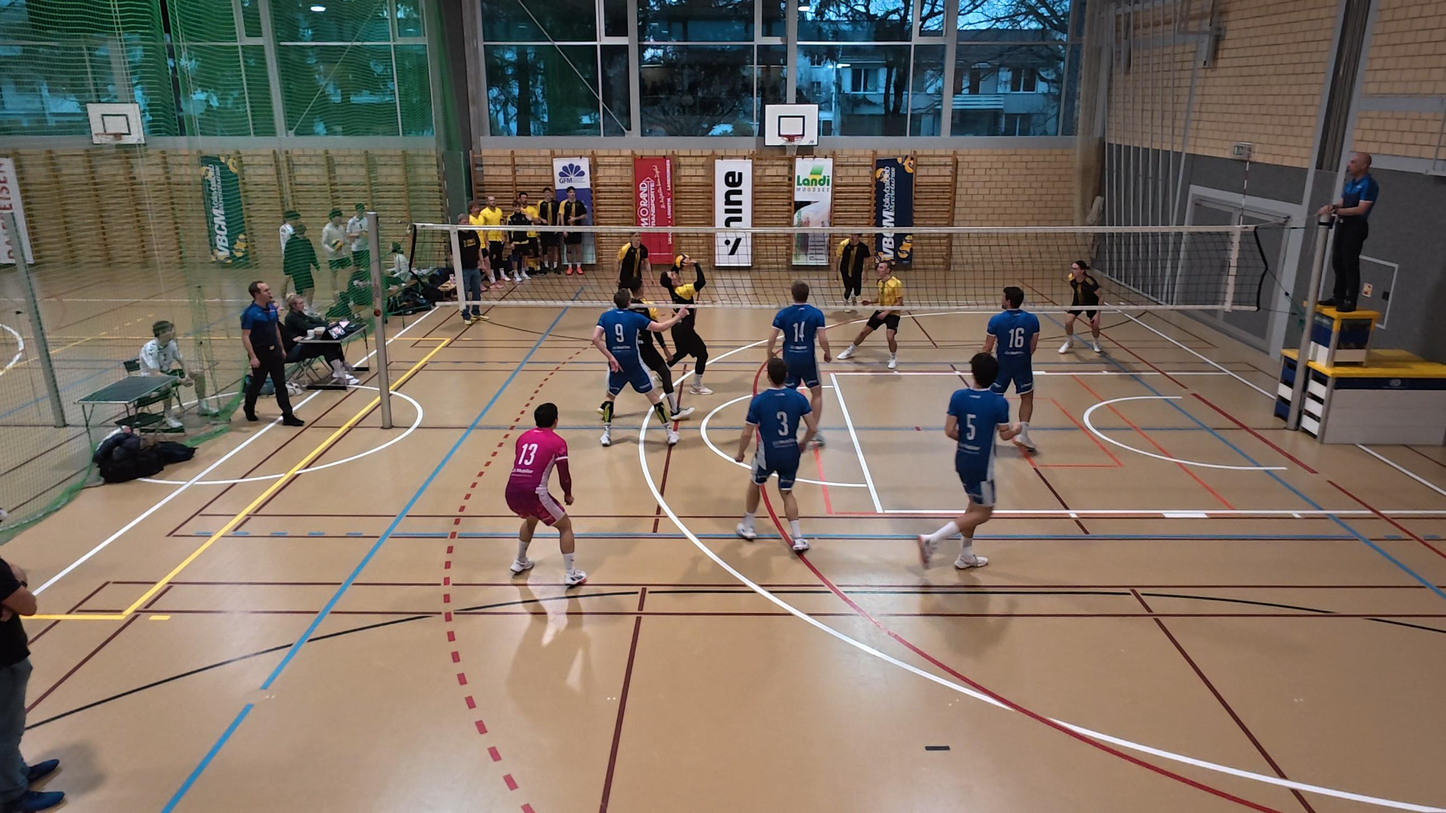alzata: (654, 262, 714, 397)
